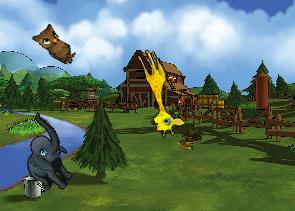elephant: (3, 111, 92, 198)
giraffe: (125, 46, 188, 140)
owl: (29, 19, 83, 66)
